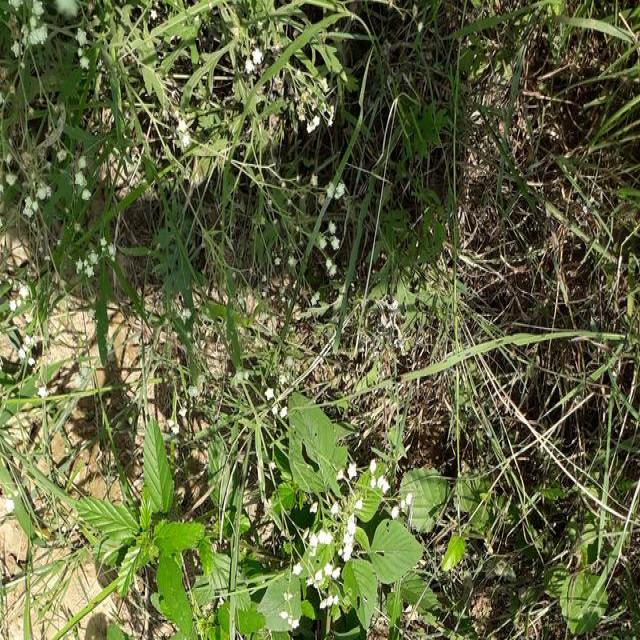weed: (3, 12, 476, 268)
